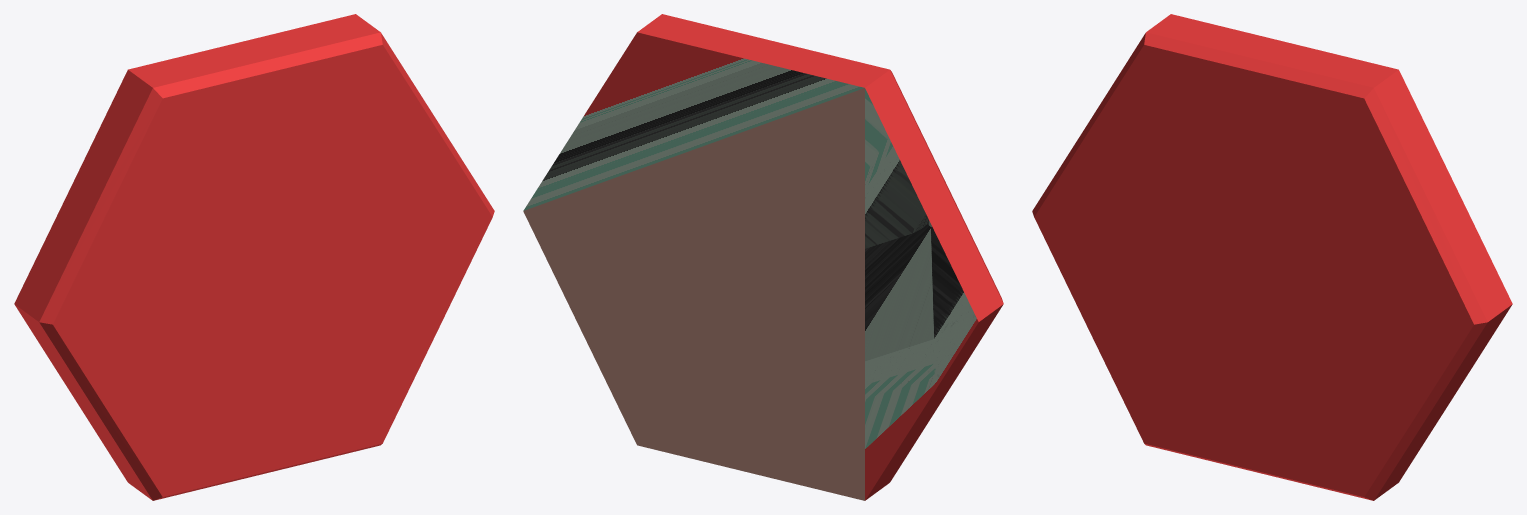
Rendered from bouton.obj.
The picture shows the model from 3 angles, left to right: view 1: azimuth 30°, elevation 25°; view 2: azimuth 150°, elevation 25°; view 3: azimuth 330°, elevation 25°; orthographic projection.
Visible parts, largest first — view 1: Object.1; view 2: Object.1; view 3: Object.1.
Part boxes in pixels (left/top/right/bottom): Object.1: left=14, top=14, right=494, bottom=500; Object.1: left=523, top=14, right=1003, bottom=500; Object.1: left=1032, top=14, right=1512, bottom=500.
Bounding box in the file's own units: 4243 × 3676 × 497.
Materials: 1 (1 with a texture image).
